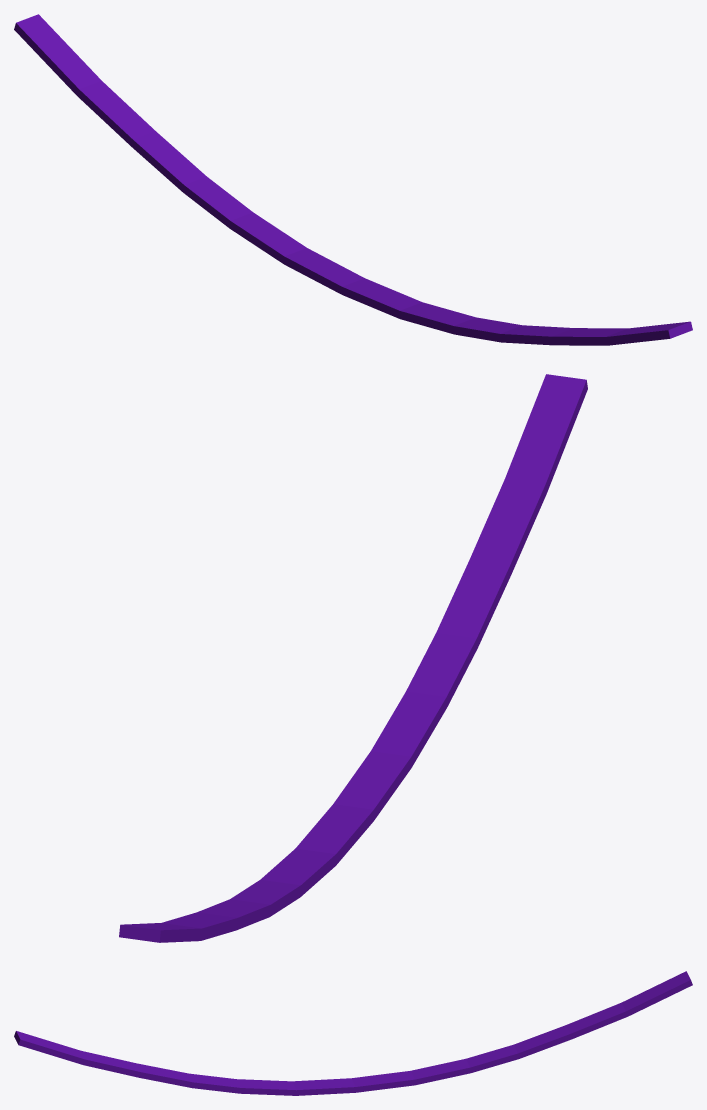
File: Tape_21_chunks.fbx
The picture shows the model from 3 angles, top to bottom: view 1: azimuth 30°, elevation 25°; view 2: azimuth 150°, elevation 25°; view 3: azimuth 270°, elevation 25°; orthographic projection. The views are drawn at different scales.
Visible parts, largest first — view 1: Tape_21_3, Tape_21_2, Tape_21_1; view 2: Tape_21_2, Tape_21_3, Tape_21_1; view 3: Tape_21_3, Tape_21_2, Tape_21_1.
Part boxes in pixels (x1,y1,x2,y2): Tape_21_3: [14, 14, 328, 273]; Tape_21_2: [419, 304, 692, 345]; Tape_21_1: [301, 259, 427, 324]; Tape_21_2: [375, 374, 587, 744]; Tape_21_3: [119, 832, 351, 942]; Tape_21_1: [310, 739, 424, 851]; Tape_21_3: [386, 971, 692, 1087]; Tape_21_2: [14, 1031, 289, 1095]; Tape_21_1: [278, 1074, 399, 1095].
Size of the model in its own units: 184 by 103 by 765.
